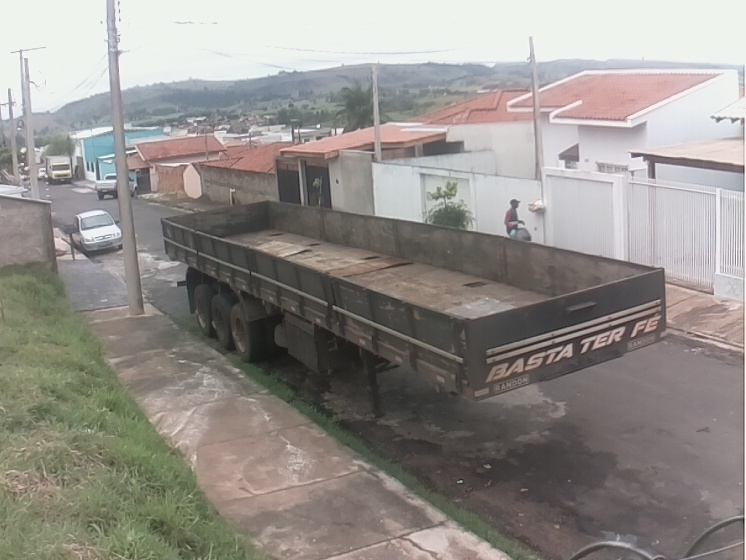person: (499, 197, 527, 238)
